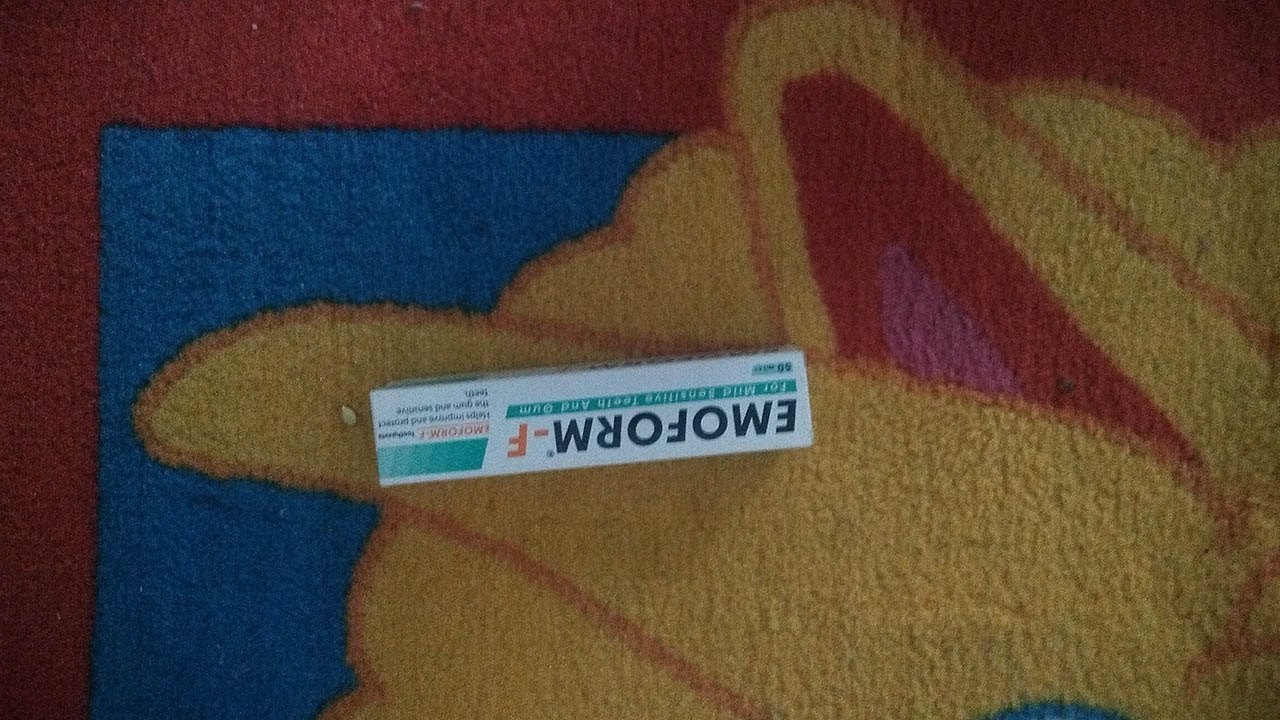Toothpaste-F 1.5$: (340, 321, 866, 554)
